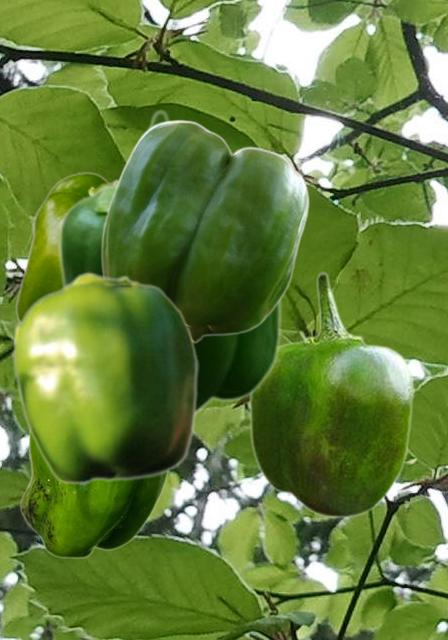bell_pepper: (57, 108, 282, 414), (100, 119, 308, 342), (248, 271, 414, 518), (12, 271, 198, 484), (19, 431, 170, 558), (15, 169, 117, 321)
